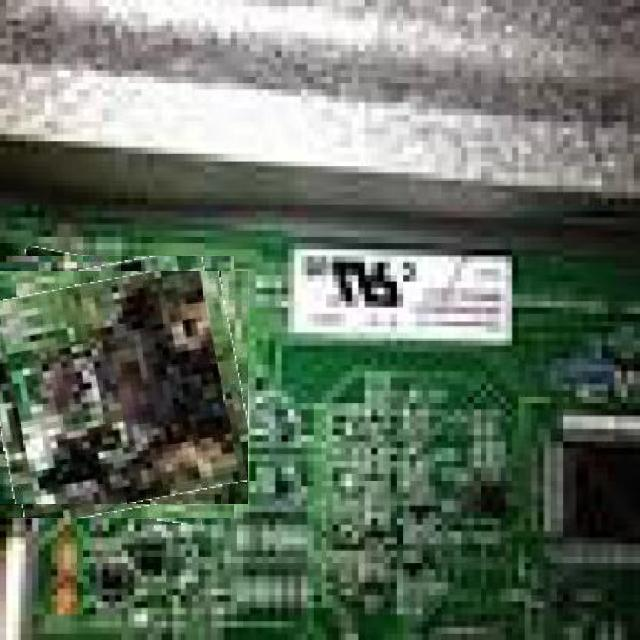damged: (0, 262, 241, 511)
